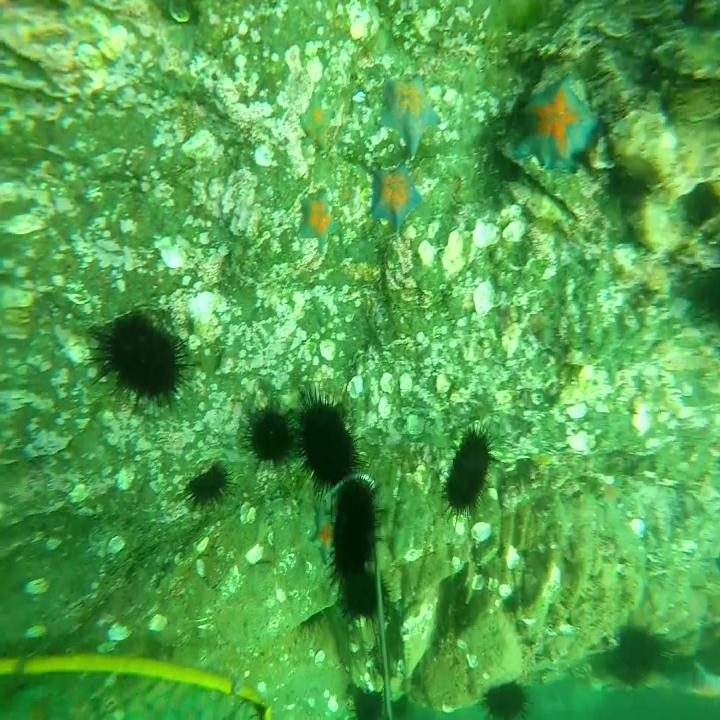echinus: (90, 307, 194, 410), (292, 381, 360, 484), (328, 472, 382, 572), (446, 421, 492, 523), (615, 610, 664, 684), (244, 402, 294, 469), (339, 566, 393, 628), (188, 459, 234, 512), (482, 674, 528, 720), (354, 682, 390, 720)
starfish: (524, 77, 599, 172), (382, 69, 442, 160), (369, 159, 422, 231), (297, 186, 342, 256), (297, 88, 336, 154)
